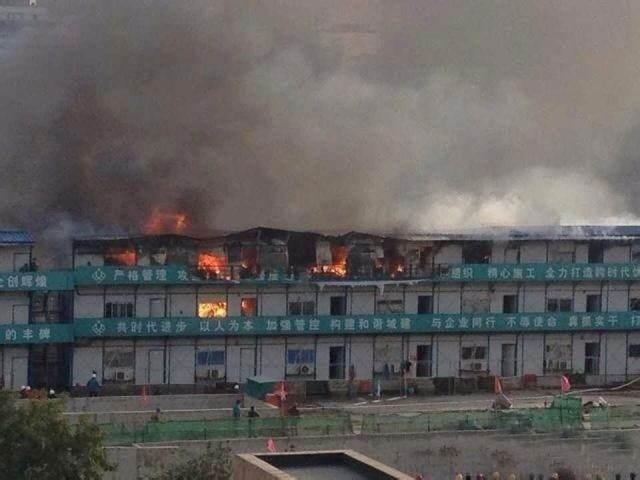fire: (140, 208, 188, 233), (310, 250, 350, 275), (196, 249, 232, 273), (196, 296, 228, 316), (114, 246, 138, 264)
